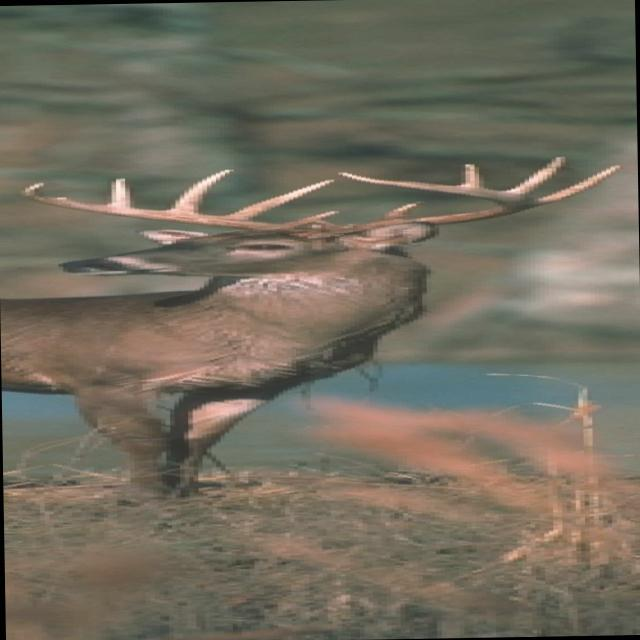E1: (316, 220, 335, 226)
L-F: (283, 170, 542, 240)
L-G1: (381, 202, 425, 220)
L-G2: (535, 164, 625, 205)
L-G3: (502, 155, 568, 195)
L-G4: (455, 162, 487, 188)
R-G1: (281, 210, 341, 227)
R-G2: (218, 178, 338, 220)
R-G3: (164, 167, 235, 214)
R-G4: (102, 176, 134, 208)
